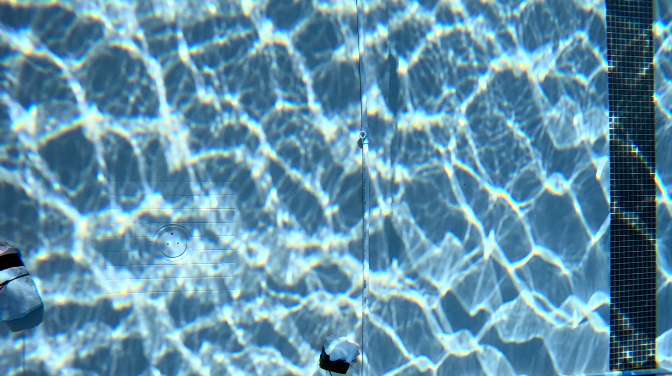sandbag: (0, 247, 42, 320), (316, 336, 357, 375)
